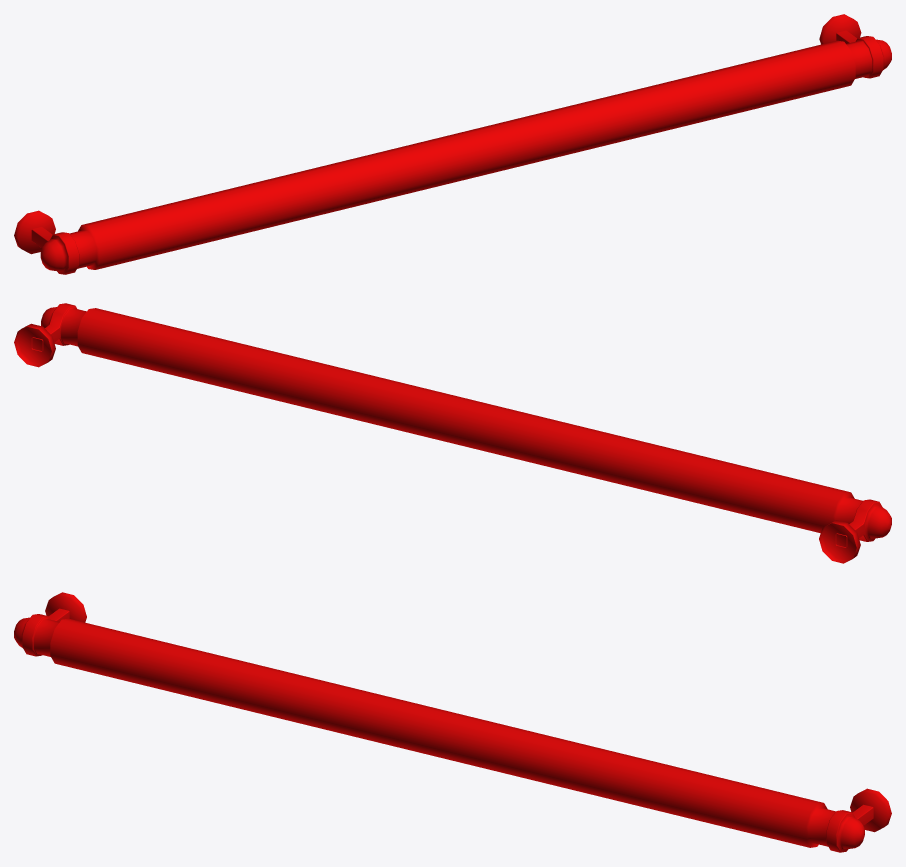
Rendered from Corridor_Handle_Mesh.fbx.
3 renders of one model, top to bottom at view 1: azimuth 30°, elevation 25°; view 2: azimuth 150°, elevation 25°; view 3: azimuth 330°, elevation 25°, orthographic.
Visible parts, largest first — view 1: Corridor_Handle_Mesh; view 2: Corridor_Handle_Mesh; view 3: Corridor_Handle_Mesh.
Part boxes in pixels (x1=…): Corridor_Handle_Mesh: x1=14, y1=14, x2=891, y2=274; Corridor_Handle_Mesh: x1=14, y1=303, x2=891, y2=563; Corridor_Handle_Mesh: x1=14, y1=592, x2=891, y2=852.
Size of the model in its own units: 116 by 5.61 by 9.96.
